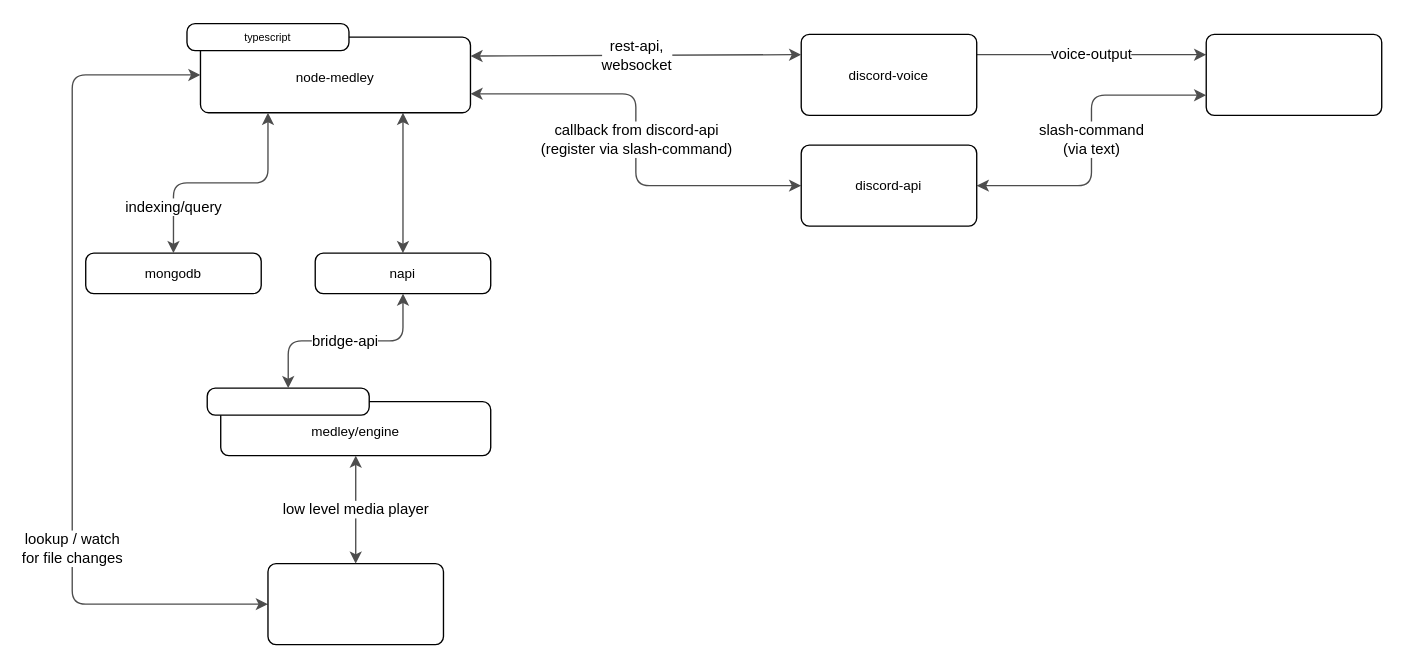
The diagram is 1405 pixels wide and 668 high, and some of its shapes have lost their labels. Here are the shapes that lost their labels. From the top down, the centre of each, then its label:
At point (1293, 74): "discord-channel".
At point (287, 401): "C++".
At point (355, 603): "filesystem".
